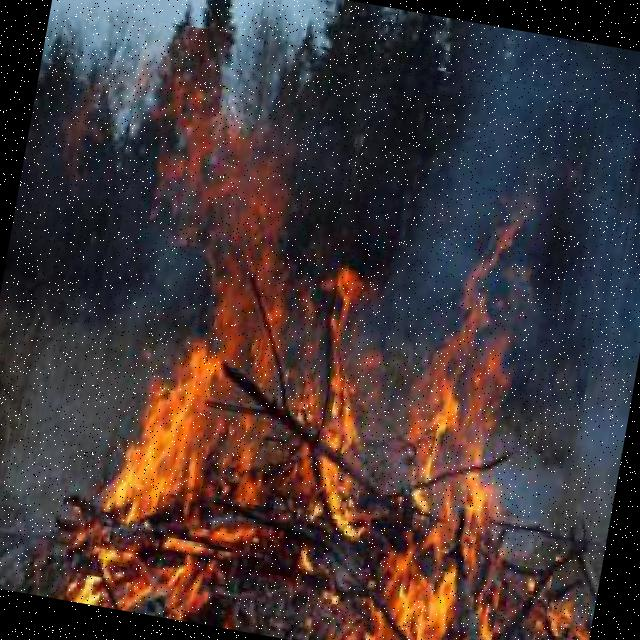fire: (46, 18, 635, 640)
